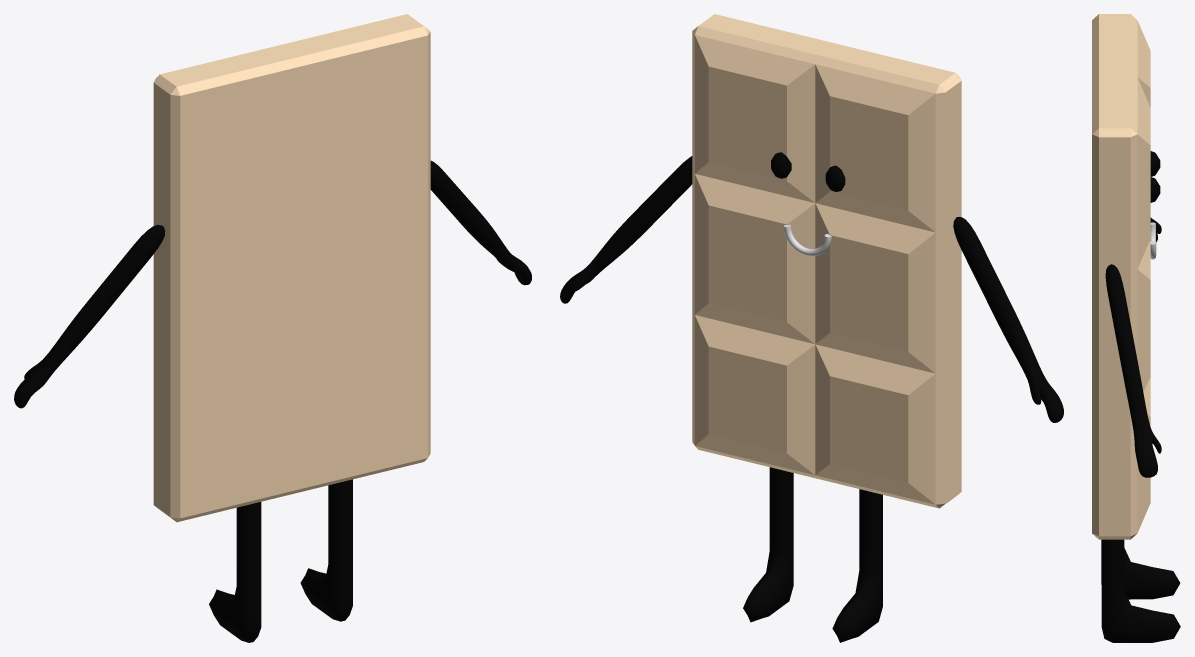
File: Chocolate Bar - White.FBX
3 renders of one model, left to right at view 1: azimuth 30°, elevation 25°; view 2: azimuth 150°, elevation 25°; view 3: azimuth 270°, elevation 25°, orthographic. The views are drawn at different scales.
Visible parts, largest first — view 1: Box001 (×2), Box004, Box002, Box003; view 2: Box001 (×2), Box004, Box002, Box003; view 3: Box001 (×2), Box003, Box002, Arc001, Sphere002, Sphere001.
Part boxes in pixels (left/top/right/bottom): Box001 (×2): left=153, top=14, right=430, bottom=621; Box004: left=14, top=225, right=165, bottom=408; Box002: left=209, top=502, right=261, bottom=642; Box003: left=430, top=160, right=531, bottom=285; Box001 (×2): left=692, top=14, right=961, bottom=622; Box004: left=953, top=217, right=1063, bottom=422; Box002: left=832, top=489, right=882, bottom=642; Box003: left=560, top=156, right=692, bottom=303; Box001 (×2): left=1092, top=14, right=1180, bottom=642; Box003: left=1105, top=264, right=1161, bottom=477; Box002: left=1101, top=540, right=1180, bottom=599; Arc001: left=1150, top=222, right=1156, bottom=259; Sphere002: left=1150, top=151, right=1160, bottom=176; Sphere001: left=1150, top=177, right=1160, bottom=202.
Size of the model in its own units: 24.7 by 26.73 by 3.91.
